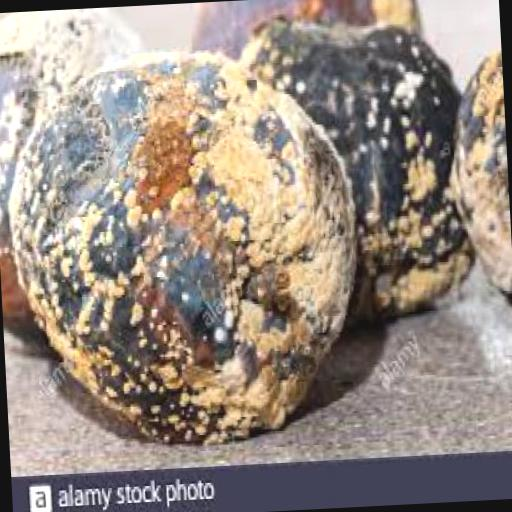biodegradable: (0, 37, 361, 452), (234, 8, 476, 334), (0, 6, 156, 331), (440, 48, 512, 313), (186, 0, 423, 73)
